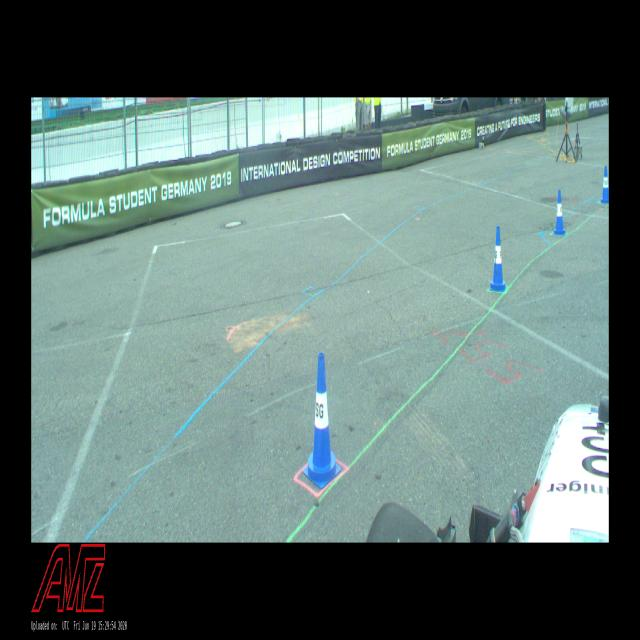blue_cone: (303, 352, 341, 489), (489, 226, 507, 292), (554, 190, 566, 234), (600, 167, 609, 203)
